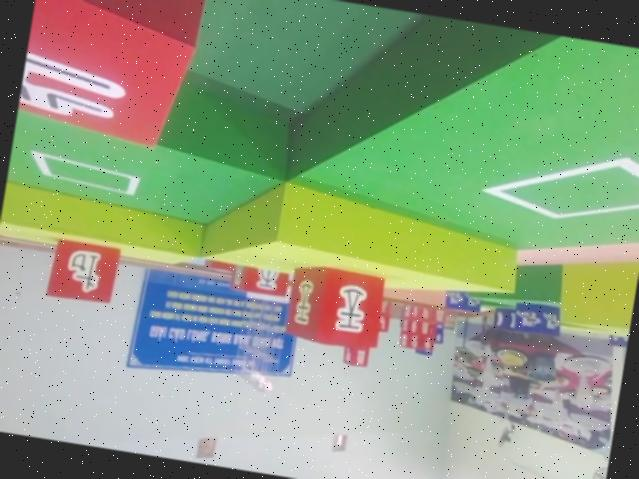R2 Real: (283, 260, 386, 352), (44, 236, 121, 308)
